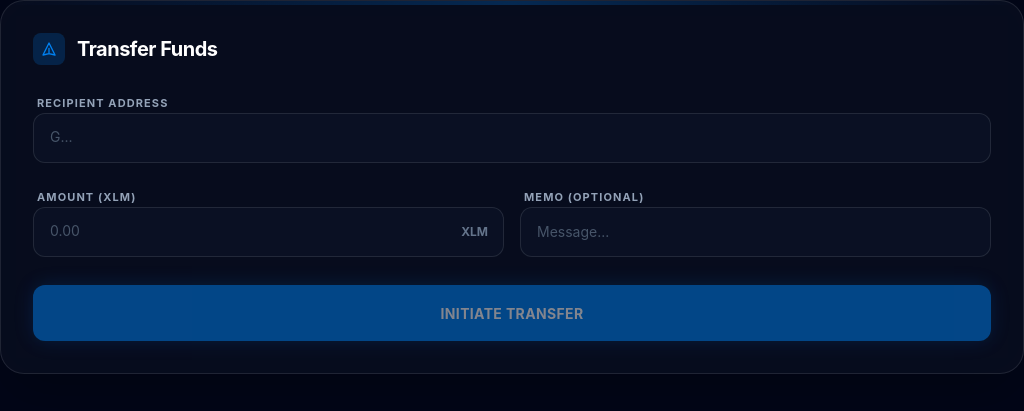
SendForm › amount must be positive
Type "GBBVAN7YTES4NTF5EC2ULSNTVVAZCHZCPX7UI3X7UXYZLH6ZSY4JPDAW" into the field named "recipient" at (512, 138), box [33,113,991,163]
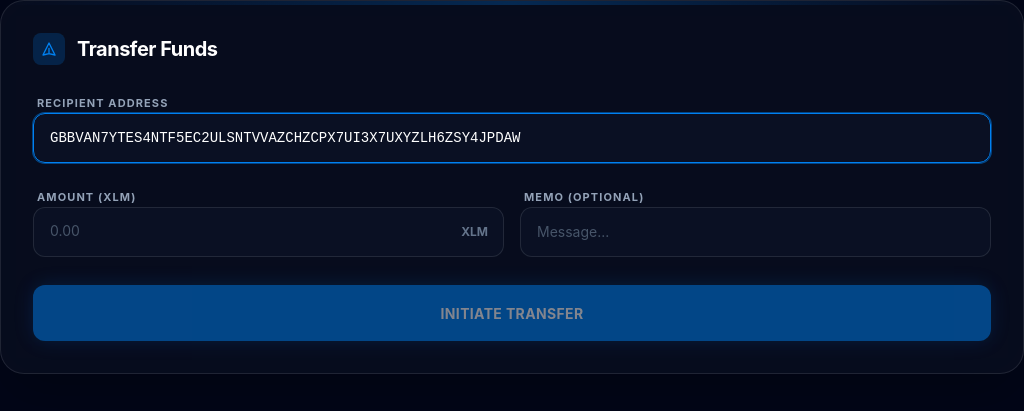
Type "-5" into the number field named "amount" at (268, 232), box [33,207,504,257]
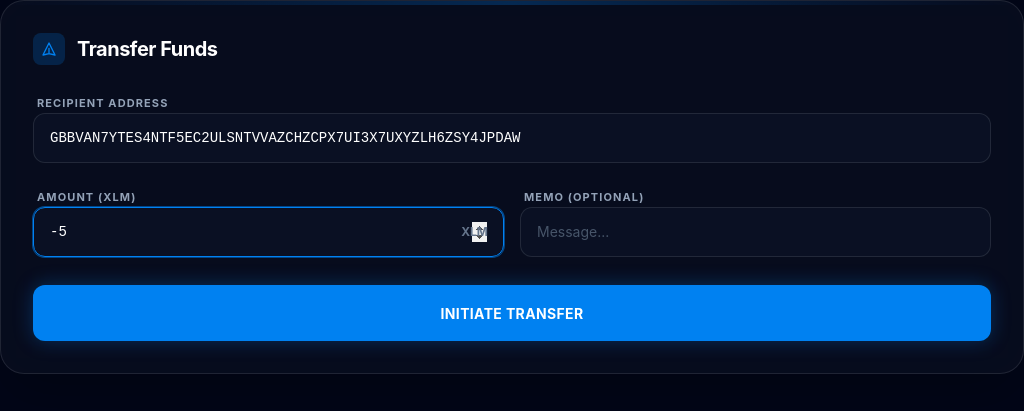
Submit the form labelled "Recipient", box [33,89,991,341]
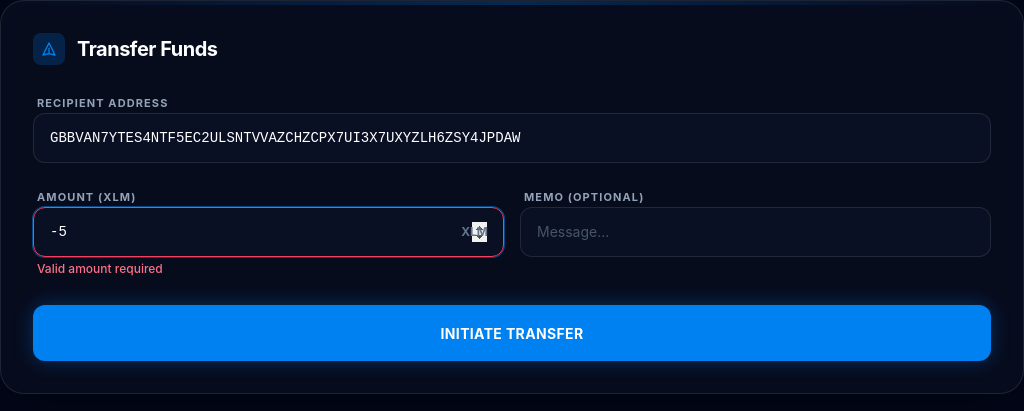
Check: the text "Valid amount required" is shown, box [37,261,163,276]
